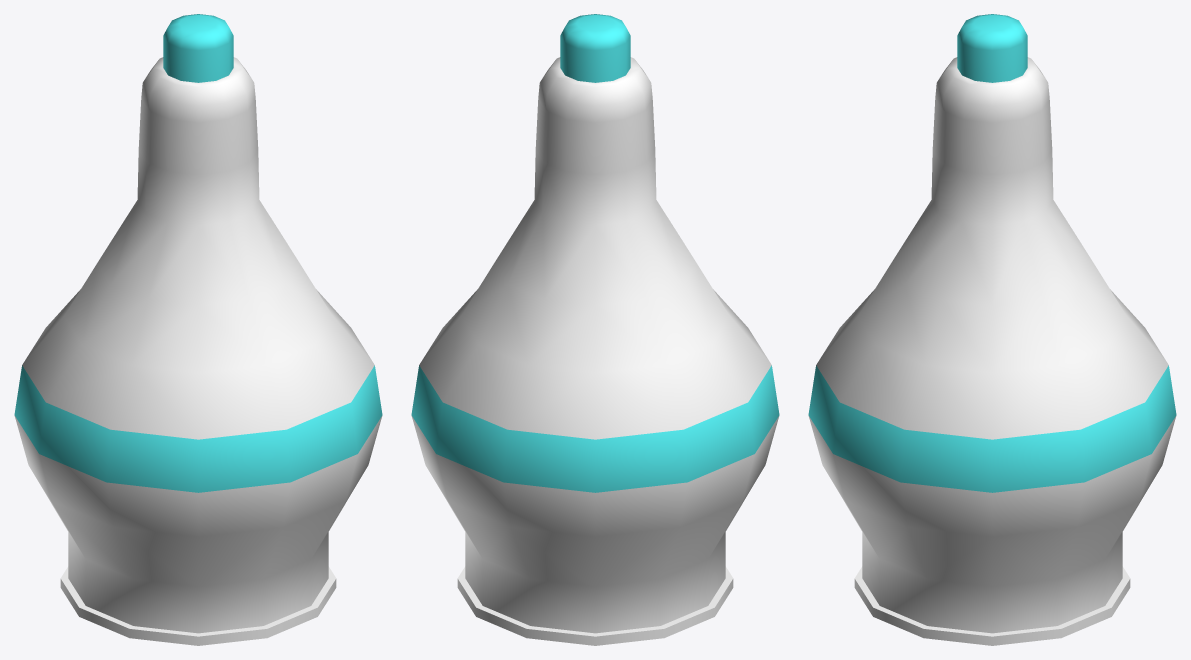
File: SM_fancy_glass_bottle_filled_02.obj
The picture shows the model from 3 angles, left to right: view 1: azimuth 30°, elevation 25°; view 2: azimuth 150°, elevation 25°; view 3: azimuth 270°, elevation 25°; orthographic projection.
Visible parts, largest first — view 1: SM_fancy_glass_bottle_filled_02_m_Glass, SM_fancy_glass_bottle_filled_02_mi_CustomPropMain; view 2: SM_fancy_glass_bottle_filled_02_m_Glass, SM_fancy_glass_bottle_filled_02_mi_CustomPropMain; view 3: SM_fancy_glass_bottle_filled_02_m_Glass, SM_fancy_glass_bottle_filled_02_mi_CustomPropMain.
Part boxes in pixels (x1,y1,x2,y2): SM_fancy_glass_bottle_filled_02_m_Glass: (14, 57, 382, 645); SM_fancy_glass_bottle_filled_02_mi_CustomPropMain: (14, 14, 382, 492); SM_fancy_glass_bottle_filled_02_m_Glass: (411, 57, 779, 645); SM_fancy_glass_bottle_filled_02_mi_CustomPropMain: (411, 14, 779, 492); SM_fancy_glass_bottle_filled_02_m_Glass: (808, 57, 1176, 645); SM_fancy_glass_bottle_filled_02_mi_CustomPropMain: (808, 14, 1176, 492).
Size of the model in its own units: 0.2369 by 0.4038 by 0.2369.
3 materials, 1 textured.
